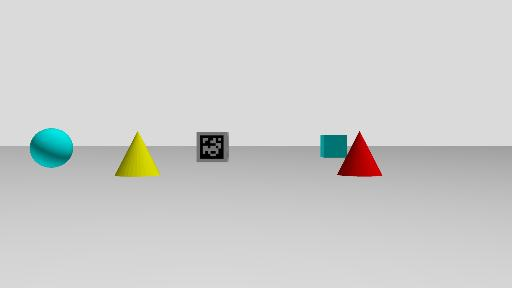red_cone: (336, 131, 383, 177)
yellow_cone: (113, 131, 160, 176)
